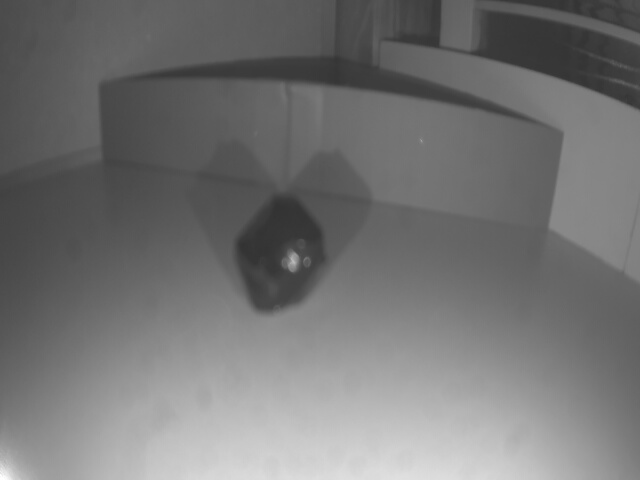Green: (95, 68, 553, 232)
